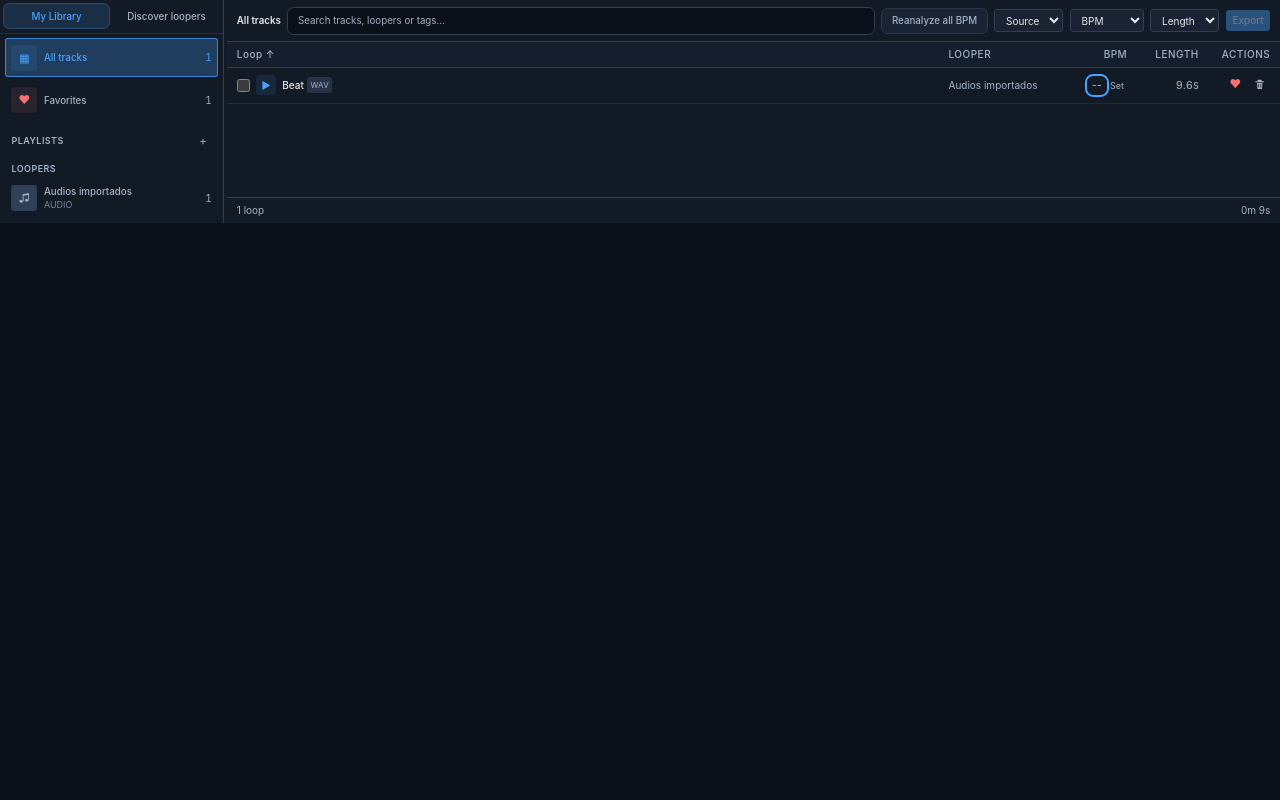
Scenario: missing BPM opens via its placeholder and an analysis failure keeps manual editing available
Step 1. Double-click the button named "Edit BPM for Beat" → (1097, 85), box [1090,79,1104,92]
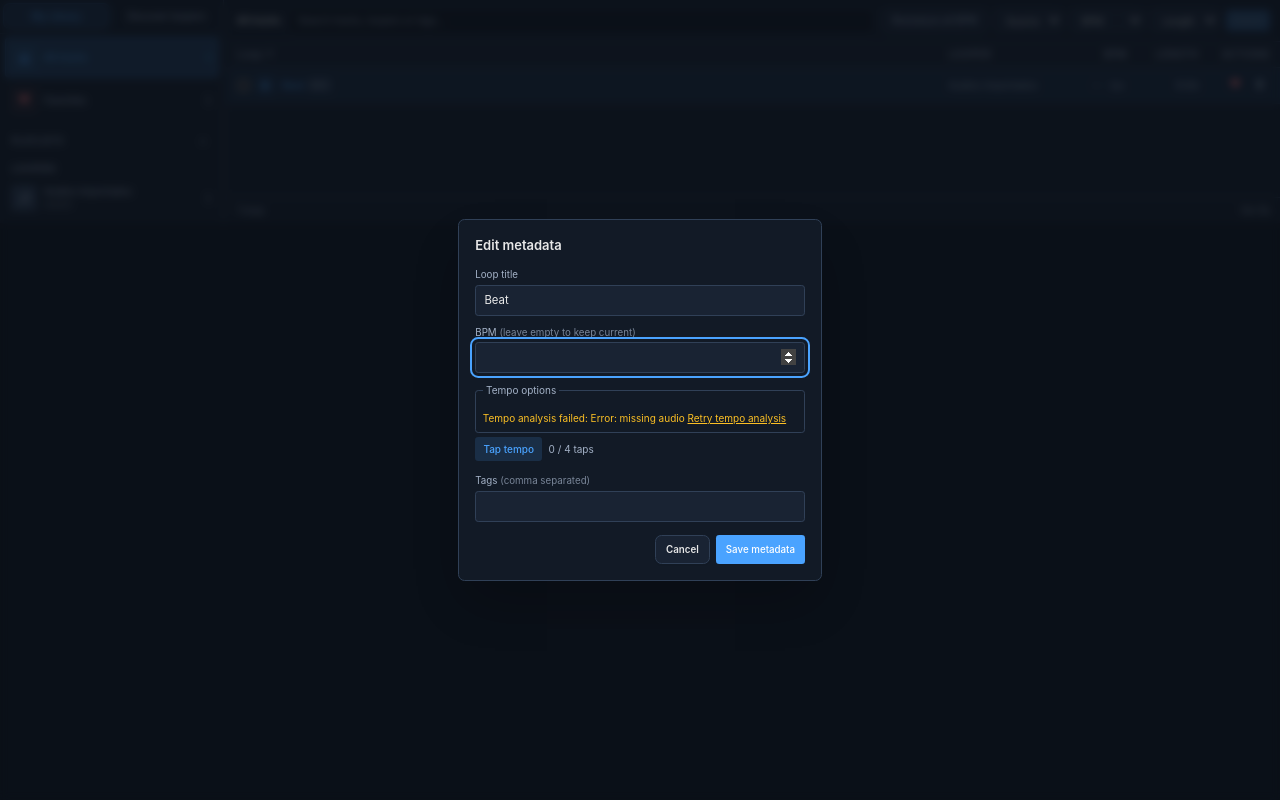
Expected: the number field labelled "BPM (leave empty to keep current)" is empty
Expected: the text "Tempo analysis failed: Error: missing audio Retry tempo analysis" is shown, [483,411,797,426]
Step 2. Type "160" into the number field labelled "BPM (leave empty to keep current)" → (640, 358), box [475,342,805,373]
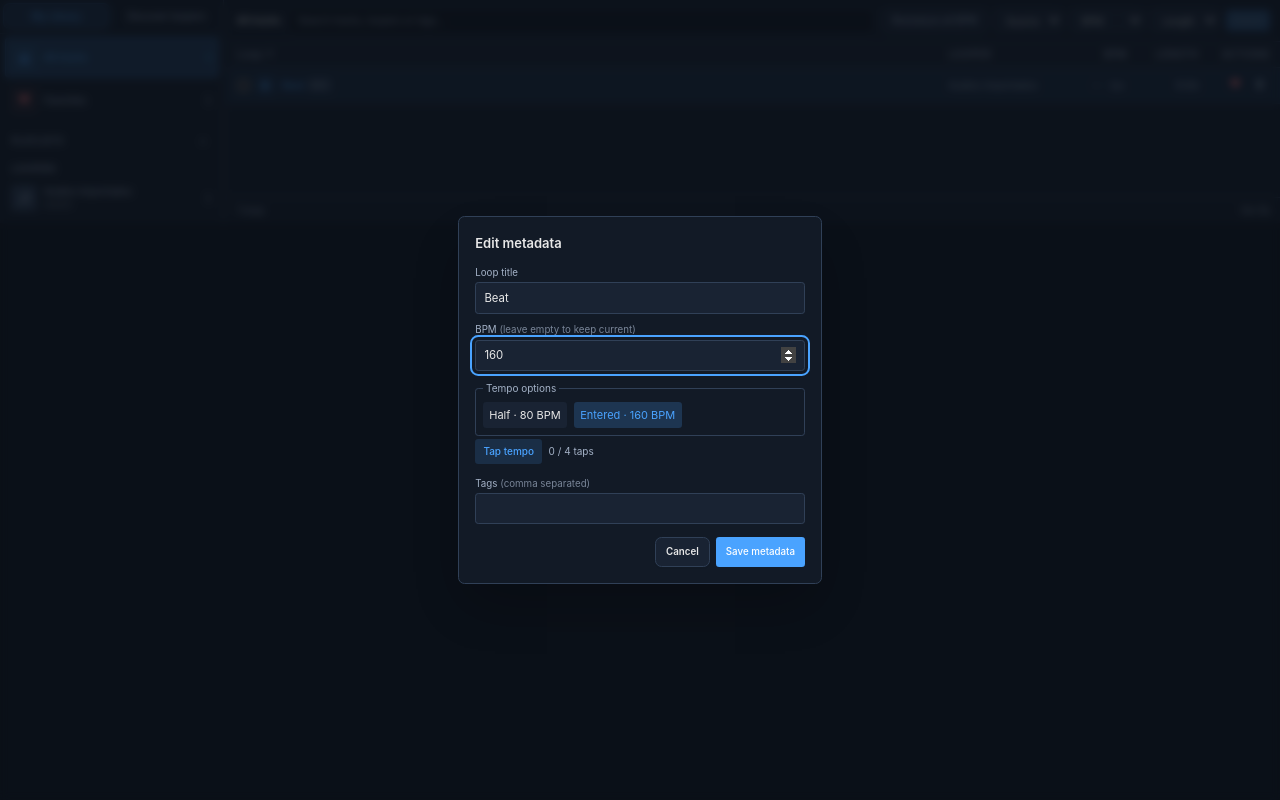
Expected: the button "Half · 80 BPM" is shown, [483,402,567,428]
